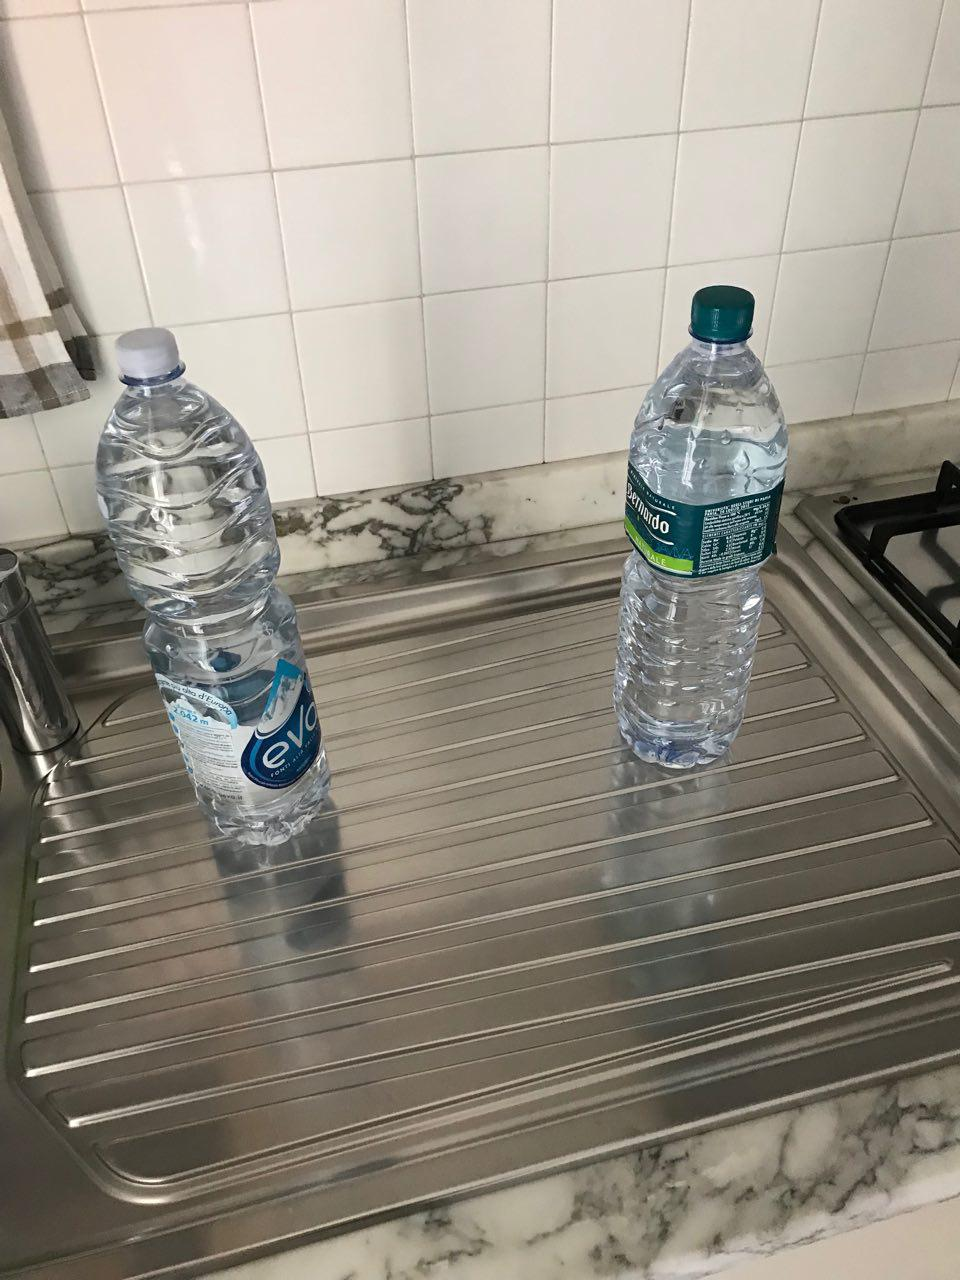san_bernardo: (612, 284, 789, 771)
